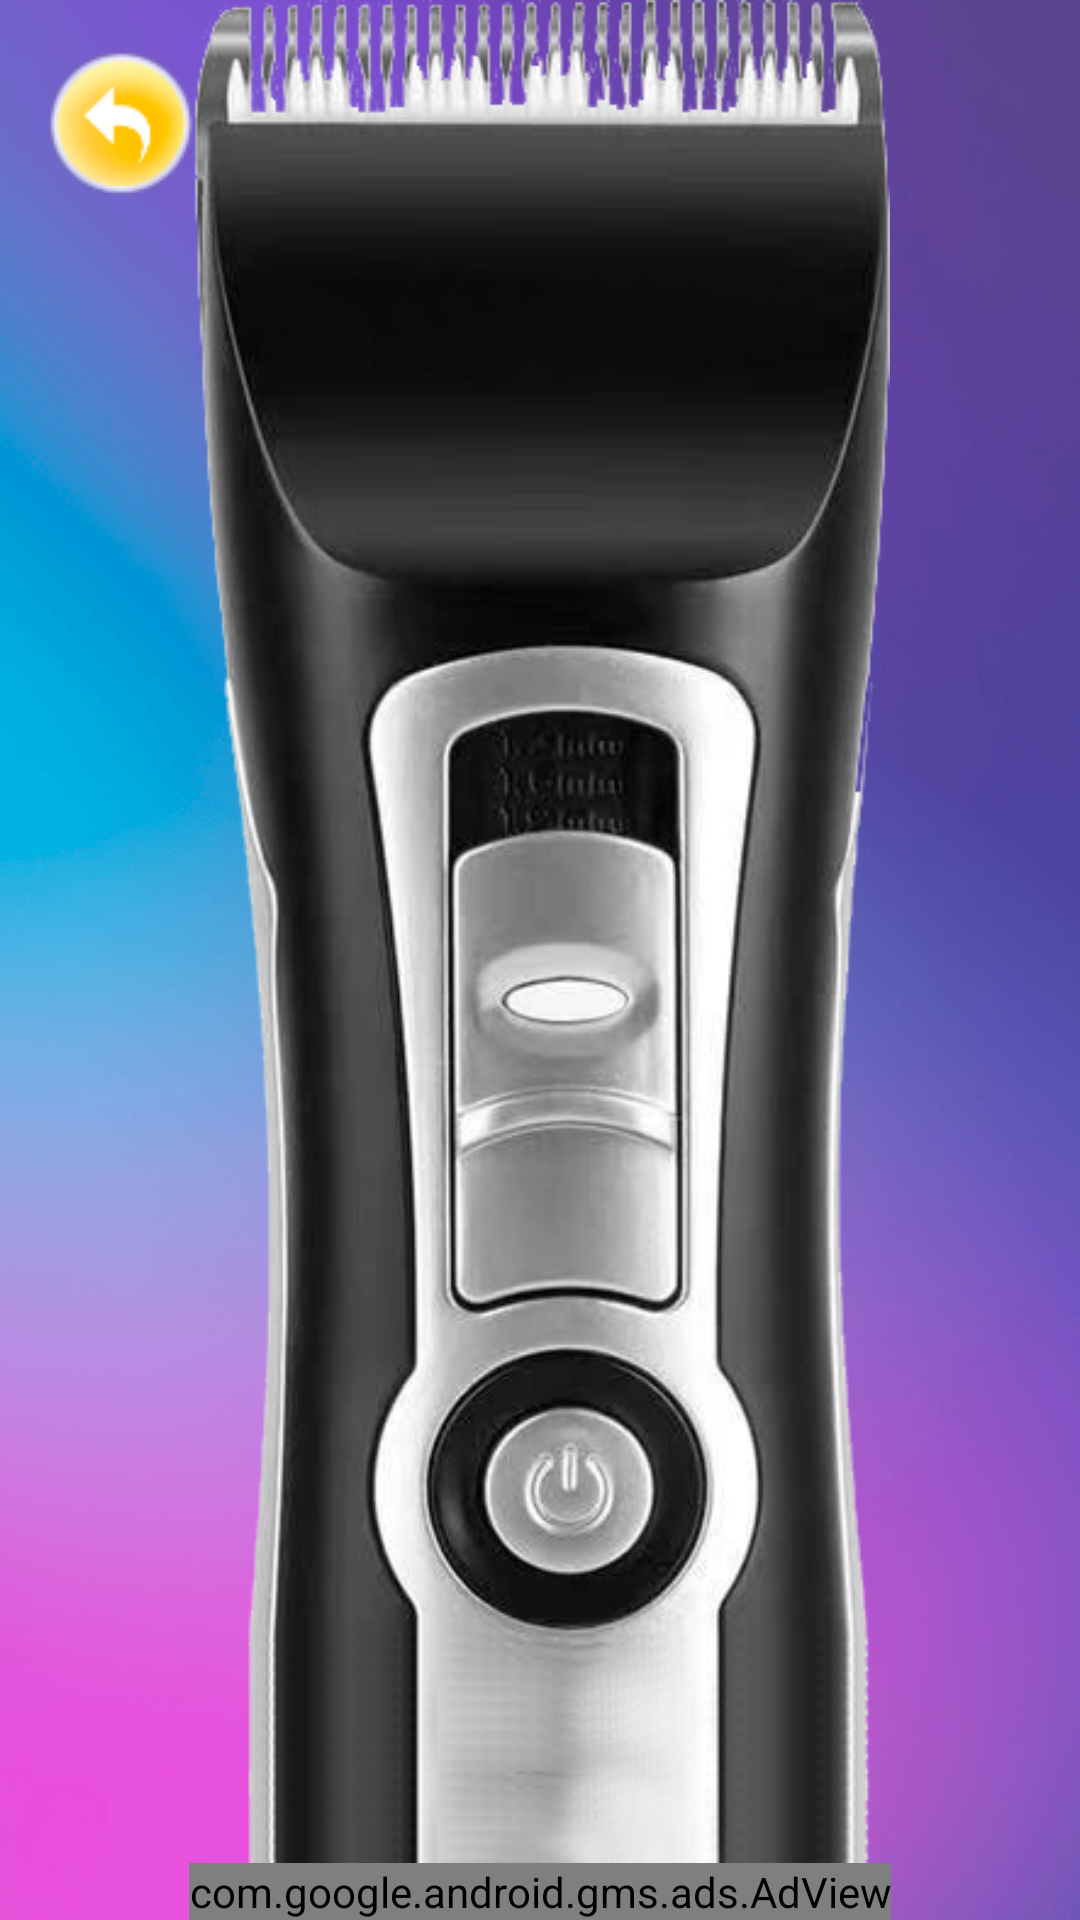

Locate icon controls on the screen. Image size 1080 x 1920, boxes as (x1, y1, x2, y2).
back: (50, 53, 192, 193)
